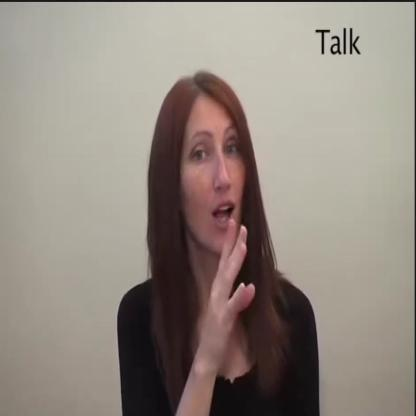Talk: (161, 71, 269, 353)
